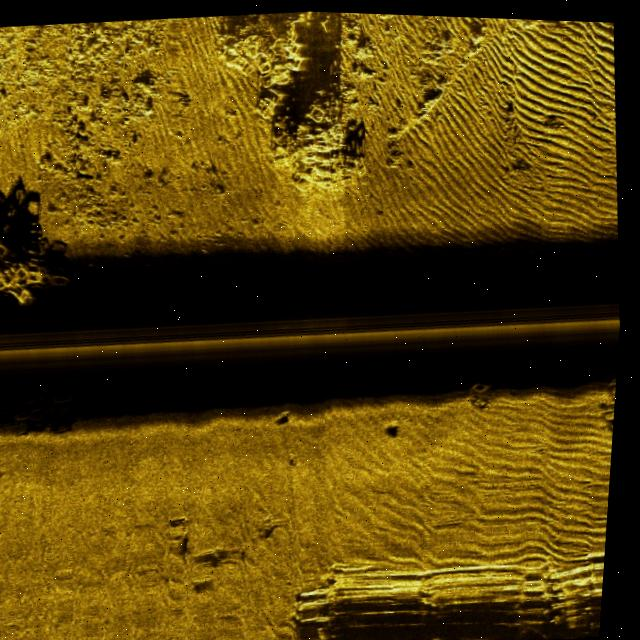artificial reef: (198, 18, 402, 206), (0, 190, 83, 322), (0, 372, 98, 448), (473, 362, 506, 396)
